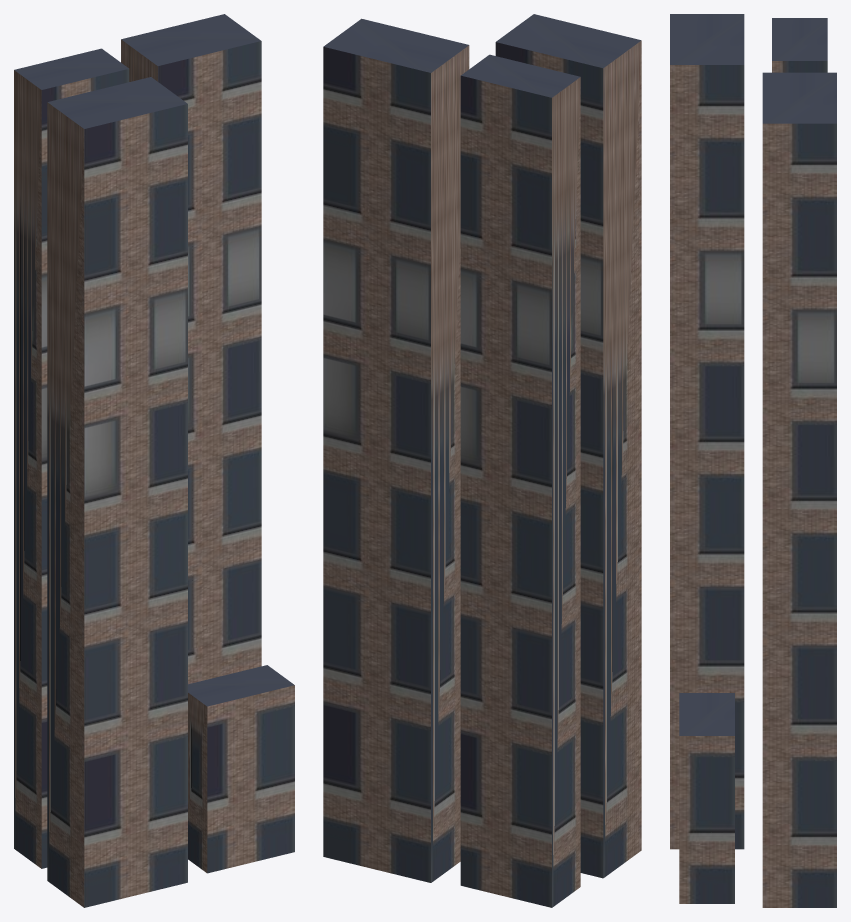
The model's file is block_30.obj.
3 renders of one model, left to right at view 1: azimuth 30°, elevation 25°; view 2: azimuth 150°, elevation 25°; view 3: azimuth 270°, elevation 25°, orthographic. The views are drawn at different scales.
Parts seen in each view (by area): view 1: b1, b2, b0, b3; view 2: b2, b0, b1; view 3: b2, b1, b3, b0.
Part boxes in pixels (x1,y1,x2,y2): b1: (47,77,187,907); b2: (121,14,261,684); b0: (14,48,129,868); b3: (188,665,294,873); b2: (323,18,469,882); b0: (460,54,580,907); b1: (495,14,641,878); b2: (762,72,836,907); b1: (670,14,744,849); b3: (679,693,734,903); b0: (772,18,827,72).
Bounding box in the file's own units: 4.2 × 14 × 2.7.
